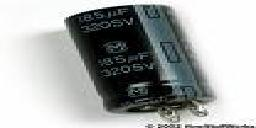Electrolytic-capacitor: (63, 4, 221, 118)
